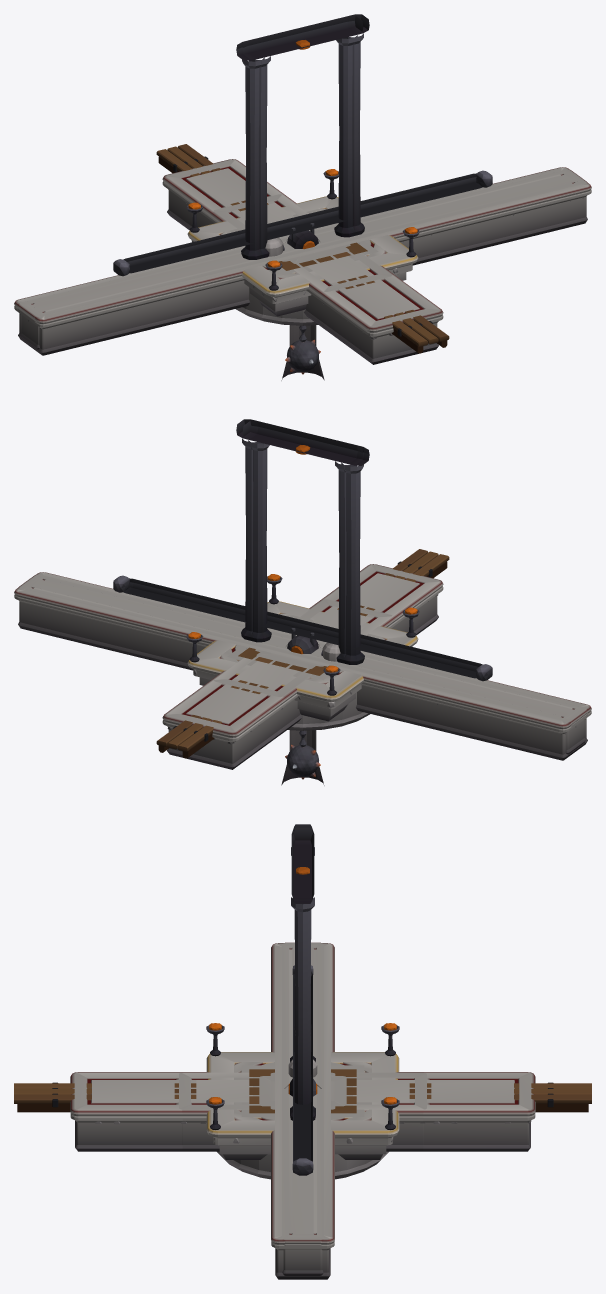
Rendered from fortress-2-CFgMBiNj.glb.
The picture shows the model from 3 angles, top to bottom: view 1: azimuth 30°, elevation 25°; view 2: azimuth 150°, elevation 25°; view 3: azimuth 270°, elevation 25°; orthographic projection. The views are drawn at different scales.
Parts seen in each view (by area): view 1: block_44x2x4_grate#1, block_6x2x29#1, block_44x2x3#1, pressFrame_6x6x2x7#0, pad_12x2x12#1, mount_14.4#0, pressFrame_5x6x2x7#0, block_6x2x16#1, beam_2.5x1.5x36#0, disc_12x1.5#0, blade_3x10x1_wheel#0, support_1_round#0 (+1 smaller); view 2: block_44x2x4_grate#1, block_6x2x29#1, block_44x2x3#1, pressFrame_6x6x2x7#0, pressFrame_5x6x2x7#0, pad_12x2x12#1, mount_14.4#0, block_6x2x16#1, beam_2.5x1.5x36#0, disc_12x1.5#0, blade_3x10x1_wheel#0, support_1_round#0 (+1 smaller); view 3: block_6x2x29#1, pad_12x2x12#1, block_44x2x4_grate#1, block_44x2x3#1, block_6x2x16#1, pressFrame_6x6x2x7#0, beam_2.5x1.5x36#0, disc_12x1.5#0, mount_14.4#0, hover_7x1.5x7#1, pressFrame_5x6x2x7#0, block_5x2x6#0.
Boxes of the visible parts, x1,y1,x2,y2 form: block_44x2x4_grate#1: (14,167,591,355); block_6x2x29#1: (162,159,443,364); block_44x2x3#1: (17,169,587,349); pressFrame_6x6x2x7#0: (236,14,369,259); pad_12x2x12#1: (186,169,419,316); mount_14.4#0: (113,170,492,276); pressFrame_5x6x2x7#0: (242,15,363,258); block_6x2x16#1: (211,194,393,329); beam_2.5x1.5x36#0: (156,144,449,353); disc_12x1.5#0: (219,208,385,325); blade_3x10x1_wheel#0: (285,230,320,374); support_1_round#0: (281,239,324,380); block_44x2x4_grate#1: (14,572,591,760); block_6x2x29#1: (162,564,443,769); block_44x2x3#1: (18,574,588,754); pressFrame_6x6x2x7#0: (236,419,369,664); pressFrame_5x6x2x7#0: (242,420,363,663); pad_12x2x12#1: (186,574,419,721); mount_14.4#0: (113,575,492,681); block_6x2x16#1: (212,599,394,734); beam_2.5x1.5x36#0: (156,549,449,758); disc_12x1.5#0: (220,613,386,730); blade_3x10x1_wheel#0: (285,635,320,779); support_1_round#0: (281,644,324,785); block_6x2x29#1: (70,1072,535,1151); pad_12x2x12#1: (206,1023,399,1159); block_44x2x4_grate#1: (271,943,334,1279); block_44x2x3#1: (282,942,323,1275); block_6x2x16#1: (175,1072,430,1151); pressFrame_6x6x2x7#0: (290,824,315,1120); beam_2.5x1.5x36#0: (14,1082,591,1112); disc_12x1.5#0: (217,1062,388,1179); mount_14.4#0: (292,965,313,1175); hover_7x1.5x7#1: (249,1069,356,1113); pressFrame_5x6x2x7#0: (290,827,315,1111); block_5x2x6#0: (259,1076,346,1106).
Size of the model in its own units: 44 by 26.6 by 36.
